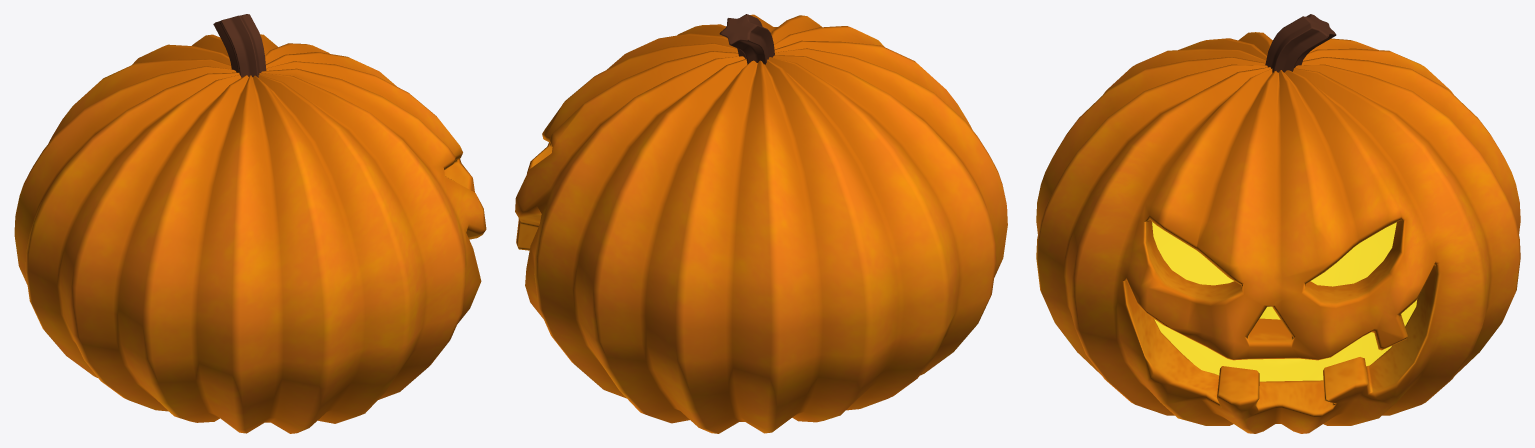
Rendered from pumpkin_hollow_full.glb.
The picture shows the model from 3 angles, left to right: view 1: azimuth 30°, elevation 25°; view 2: azimuth 150°, elevation 25°; view 3: azimuth 270°, elevation 25°; orthographic projection. The views are drawn at different scales.
Parts seen in each view (by area): view 1: pumpkin; view 2: pumpkin; view 3: pumpkin.
Part boxes in pixels (bbox=[...]): pumpkin: bbox=[14, 14, 486, 433]; pumpkin: bbox=[515, 14, 1007, 433]; pumpkin: bbox=[1036, 14, 1520, 433].
Size of the model in its own units: 1.78 by 1.55 by 1.78.
2 materials, 1 textured.
